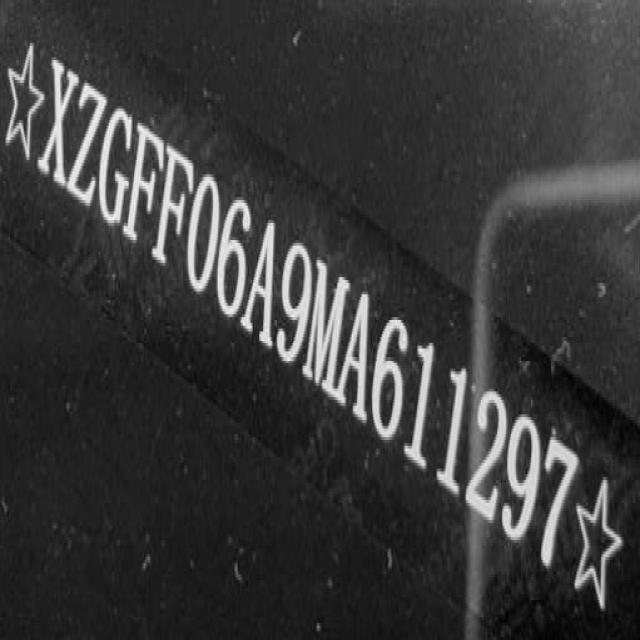0: (180, 161, 228, 308)
1: (430, 345, 480, 504), (398, 323, 445, 485)
2: (462, 368, 514, 534)
6: (366, 293, 417, 456), (211, 182, 257, 331)
7: (531, 423, 583, 588)
9: (494, 397, 551, 557), (271, 228, 317, 384)
A: (239, 202, 286, 356), (335, 276, 380, 426)
F: (148, 138, 201, 289), (121, 116, 167, 258)
G: (93, 94, 137, 235)
M: (302, 252, 358, 405)
X: (34, 53, 82, 195)
Z: (65, 74, 109, 219)
